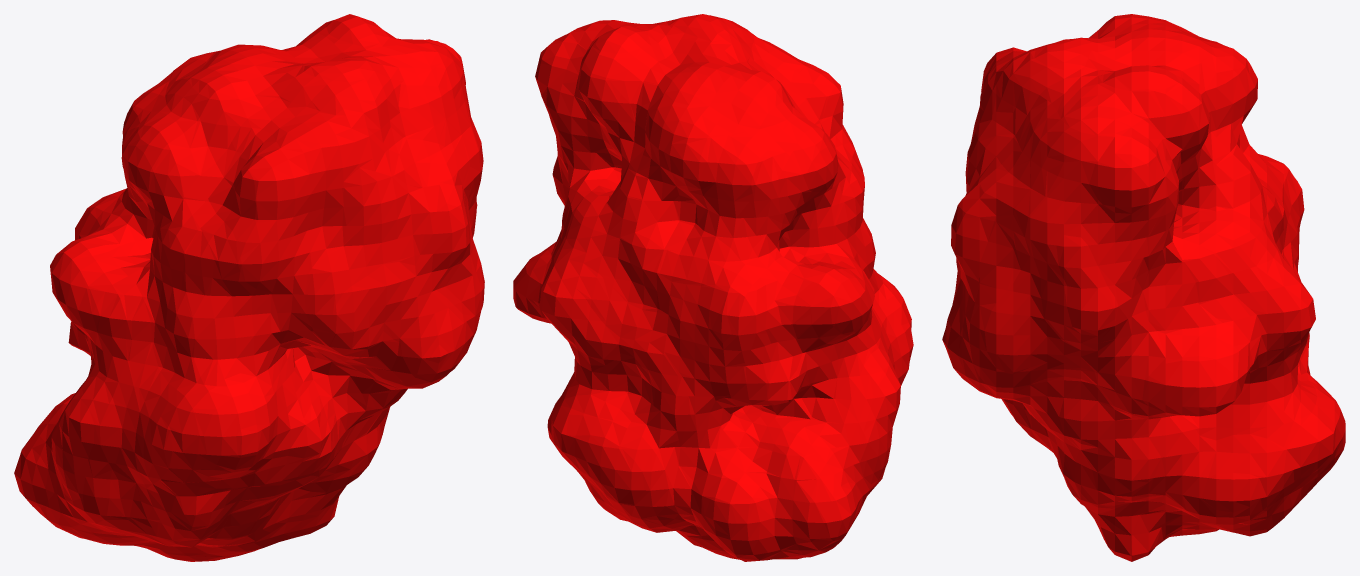
Rendered from asnA_coarse.dae.
3 renders of one model, left to right at view 1: azimuth 30°, elevation 25°; view 2: azimuth 150°, elevation 25°; view 3: azimuth 270°, elevation 25°, orthographic. The views are drawn at different scales.
Visible parts, largest first — view 1: asnA; view 2: asnA; view 3: asnA.
Boxes of the visible parts, x1,y1,x2,y2 form: asnA: (14,14,484,561); asnA: (513,14,913,561); asnA: (942,14,1345,561).
Bounding box in the file's own units: 65.29 × 82.51 × 56.19.
